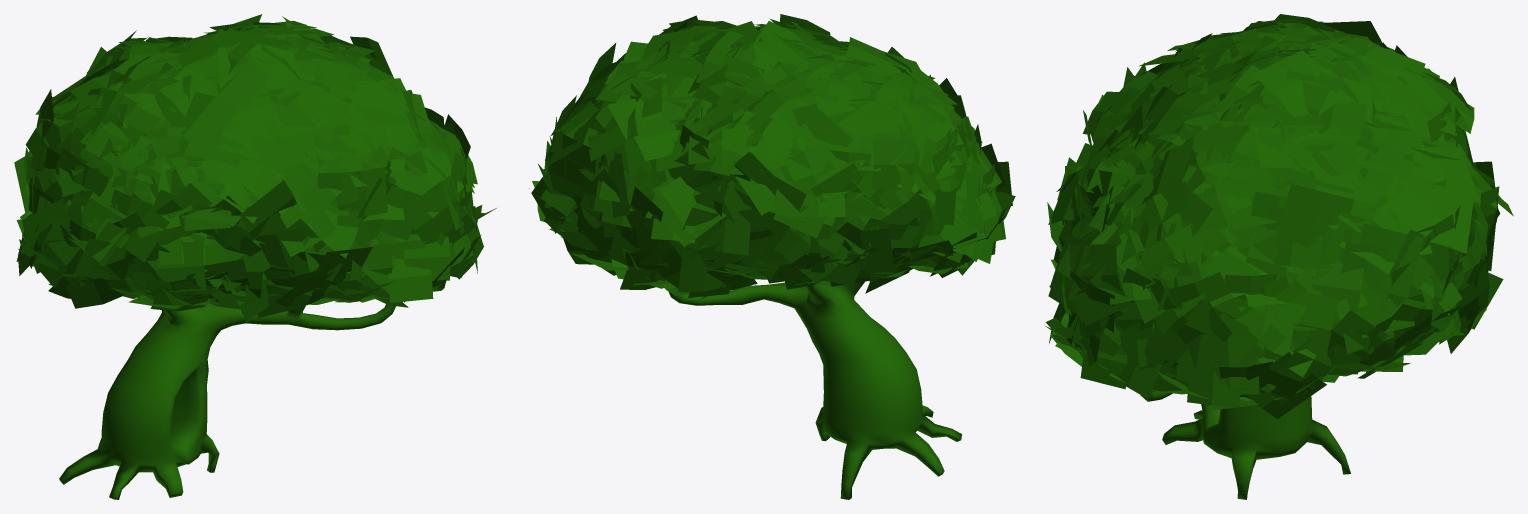
File: bilgi Agaci.fbx
3 renders of one model, left to right at view 1: azimuth 30°, elevation 25°; view 2: azimuth 150°, elevation 25°; view 3: azimuth 270°, elevation 25°, orthographic. The views are drawn at different scales.
Visible parts, largest first — view 1: bilgi Agaci; view 2: bilgi Agaci; view 3: bilgi Agaci.
Boxes of the visible parts, bbox=[...] form: bilgi Agaci: bbox=[14, 14, 496, 499]; bilgi Agaci: bbox=[529, 14, 1015, 499]; bilgi Agaci: bbox=[1045, 14, 1513, 499].
Size of the model in its own units: 8.78 by 7.05 by 7.97.
